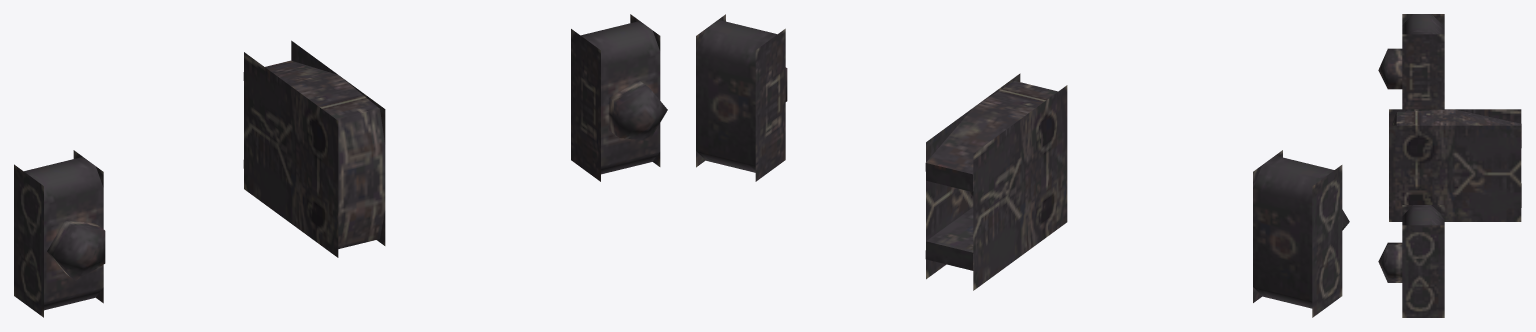
3 renders of one model, left to right at view 1: azimuth 30°, elevation 25°; view 2: azimuth 150°, elevation 25°; view 3: azimuth 270°, elevation 25°, orthographic. The views are drawn at different scales.
Visible parts, largest first — view 1: set_0_group_0; view 2: set_0_group_0; view 3: set_0_group_0.
Boxes of the visible parts, x1,y1,x2,y2 form: set_0_group_0: [14, 14, 667, 317]; set_0_group_0: [696, 14, 1349, 317]; set_0_group_0: [1378, 14, 1521, 317].
Bounding box in the file's own units: 0.6335 × 0.1348 × 0.1814.
Materials: 1 (1 with a texture image).
